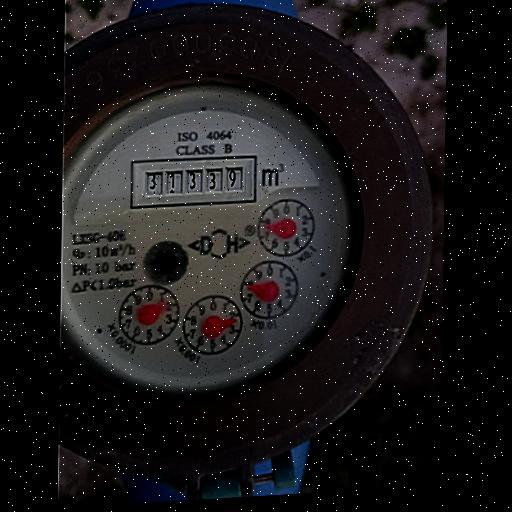1: (167, 171, 183, 194)
3: (146, 173, 162, 197), (187, 170, 203, 193), (208, 169, 222, 191)
9: (228, 168, 242, 190)
border_water_meter_number: (129, 153, 257, 210)
